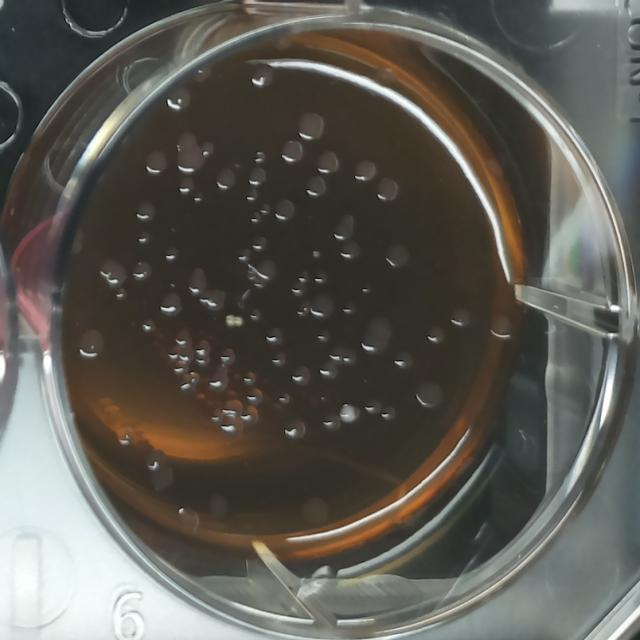Staphylococcus: (336, 400, 361, 427), (223, 312, 236, 330), (232, 315, 246, 329), (310, 247, 322, 261)
